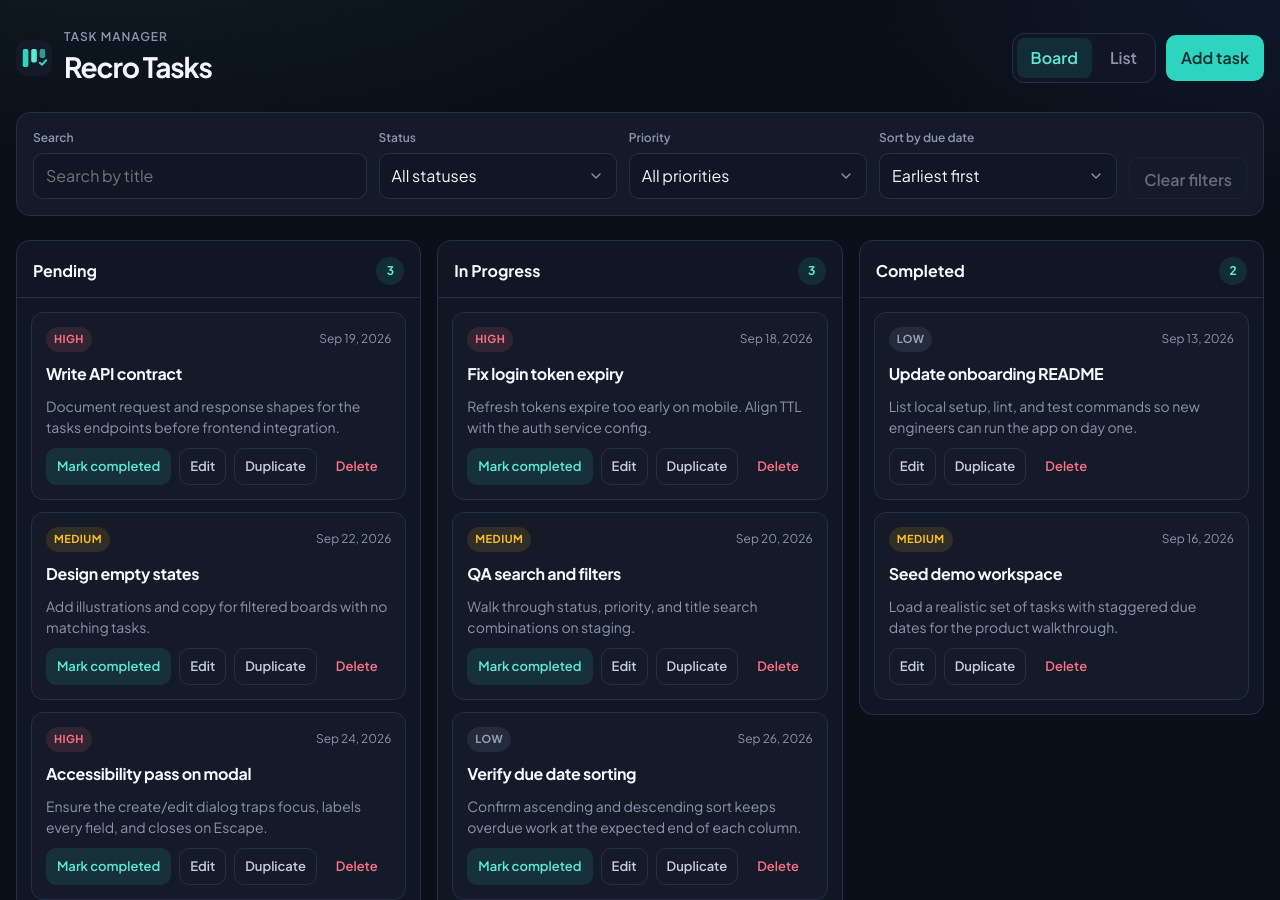
App › duplicates a task
Click the button "Duplicate" below "Write API contract": {"x": 276, "y": 466} [234,448,317,485]
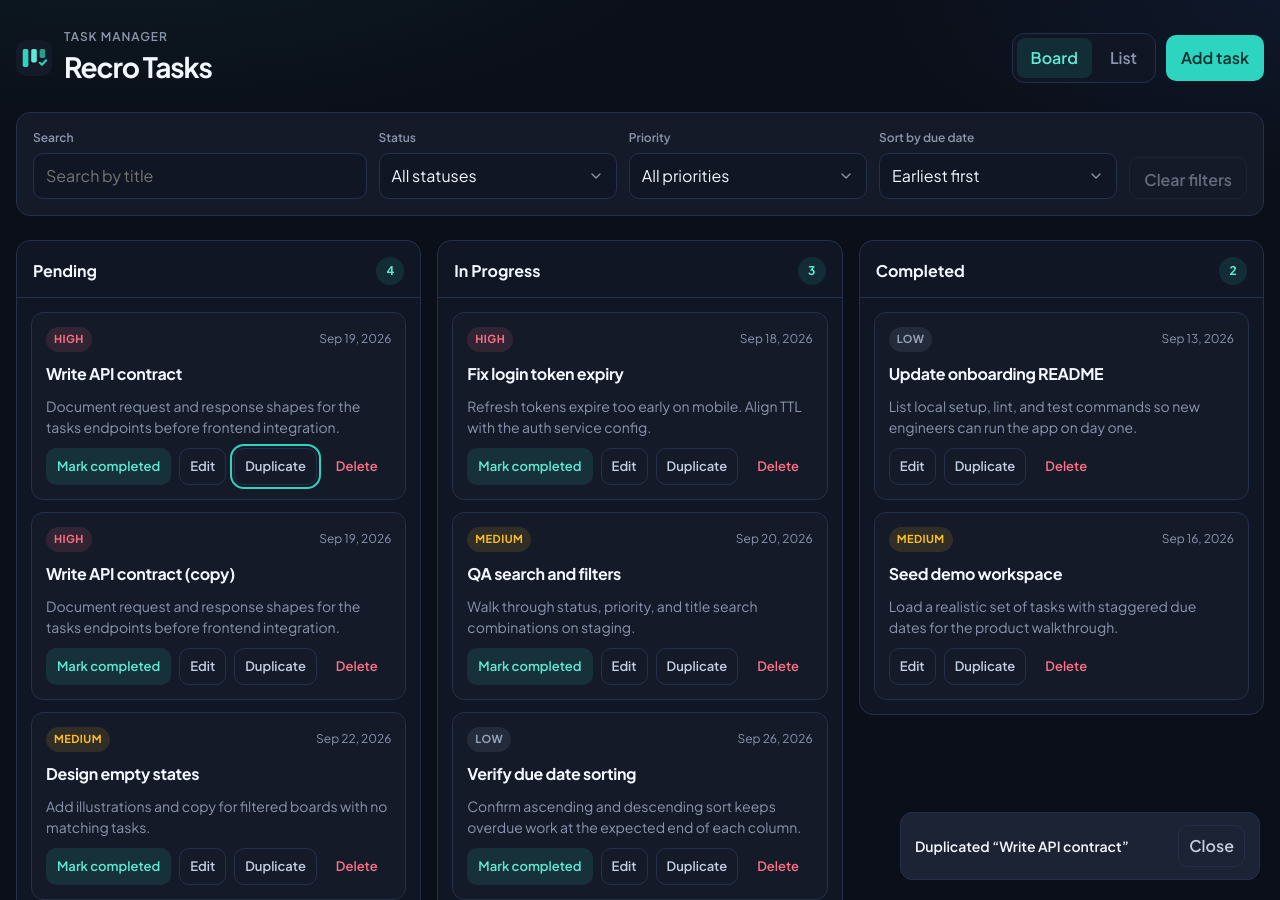
expect the heading "Write API contract (copy)" is shown: met, box [46,562,235,584]
expect the text "Duplicated “Write API contract”" is shown: met, box [915,836,1129,856]
